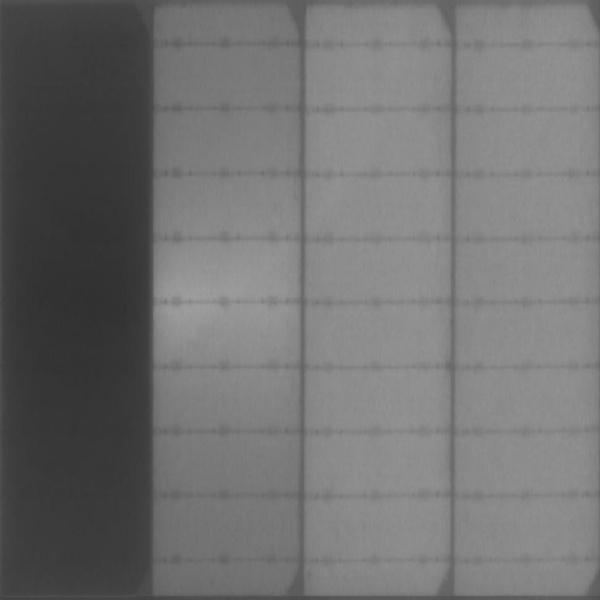no_electricity: (1, 1, 153, 596)
